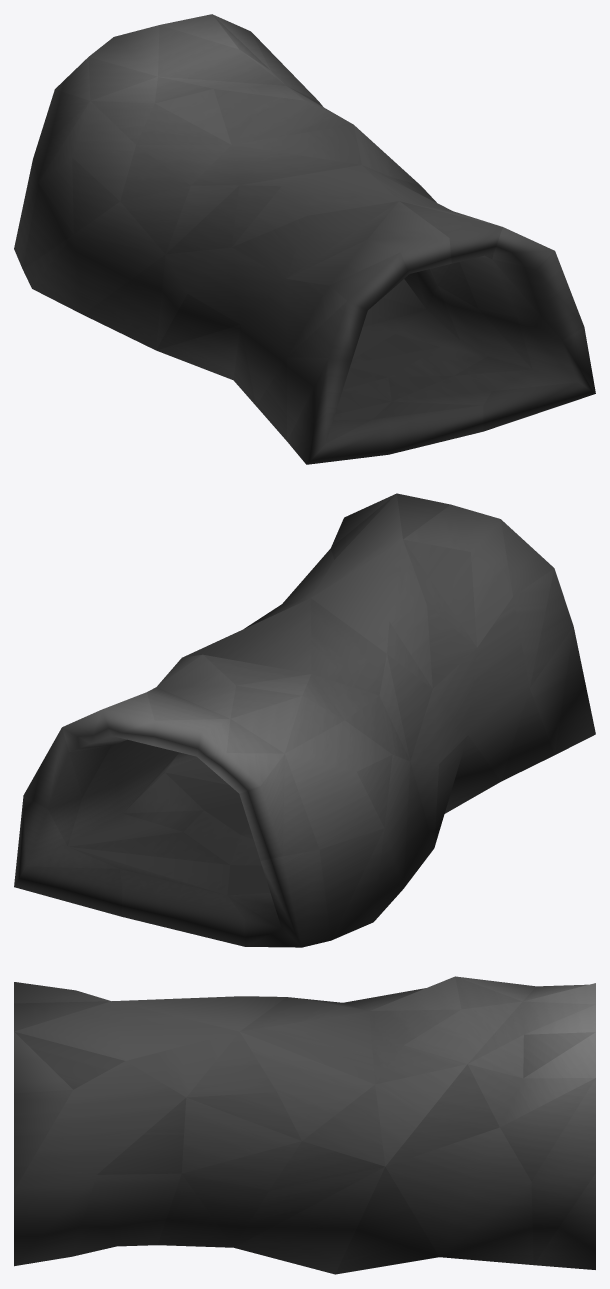
The model's file is GL-Cave-part-01.fbx.
3 views of the same model, one above another, from view 1: azimuth 30°, elevation 25°; view 2: azimuth 150°, elevation 25°; view 3: azimuth 270°, elevation 25° (orthographic).
Visible parts, largest first — view 1: GL-Cave-part-01; view 2: GL-Cave-part-01; view 3: GL-Cave-part-01.
Part boxes in pixels (left/top/right/bottom): GL-Cave-part-01: left=14, top=14, right=595, bottom=464; GL-Cave-part-01: left=14, top=493, right=595, bottom=947; GL-Cave-part-01: left=14, top=976, right=595, bottom=1274.
Size of the model in its own units: 3.81 by 2.32 by 6.01.
